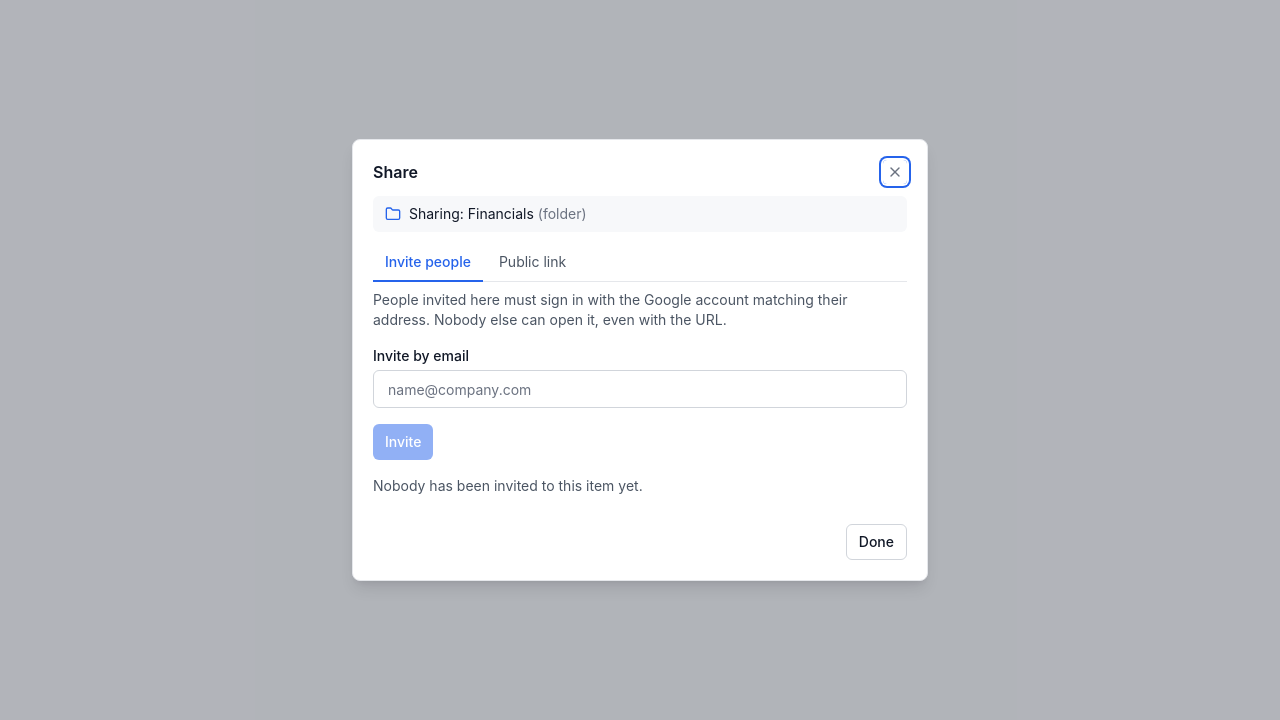
Scenario: ShareDialog › reuses an existing live link instead of minting a second one
Expected: the text "Sharing: Financials (folder)" is shown, [409,204,587,224]
Click the tab "Public link": click(533, 263) [487,244,578,282]
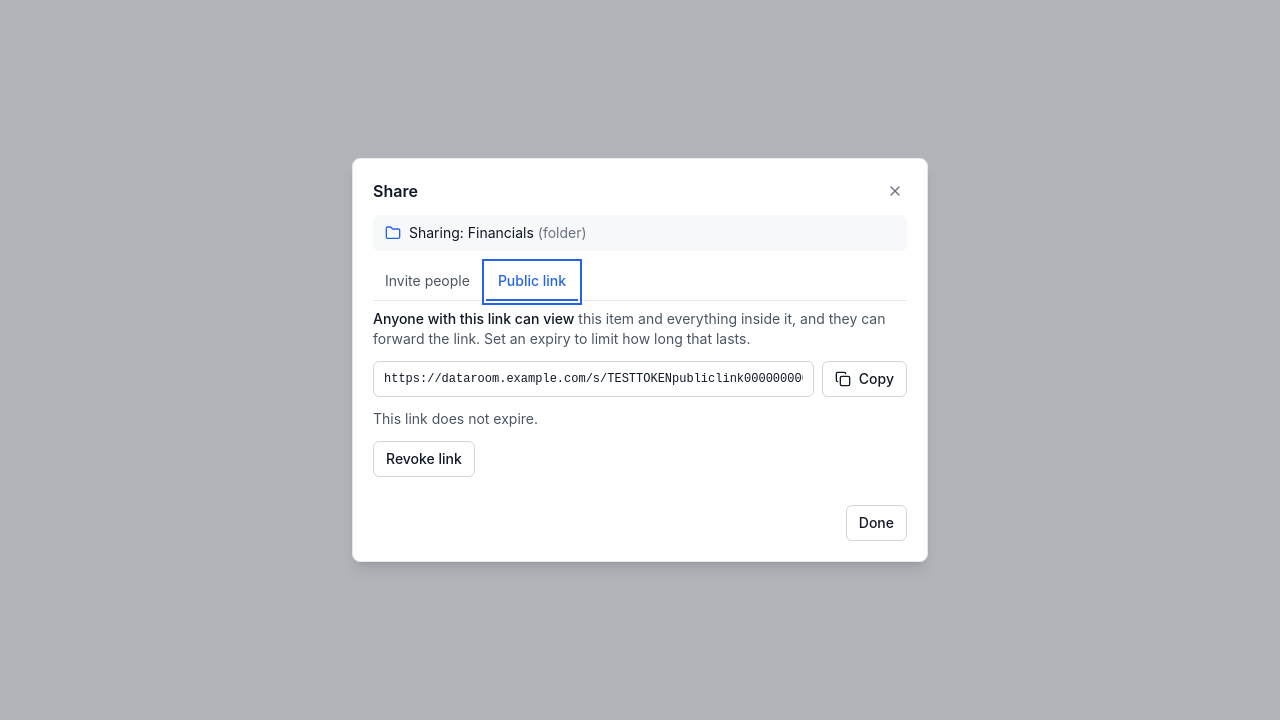
Result: the field named "Public link URL" holds "https://dataroom.example.com/s/TESTTOKENpubliclink000000000000000000000000" at [373,361,814,397]
